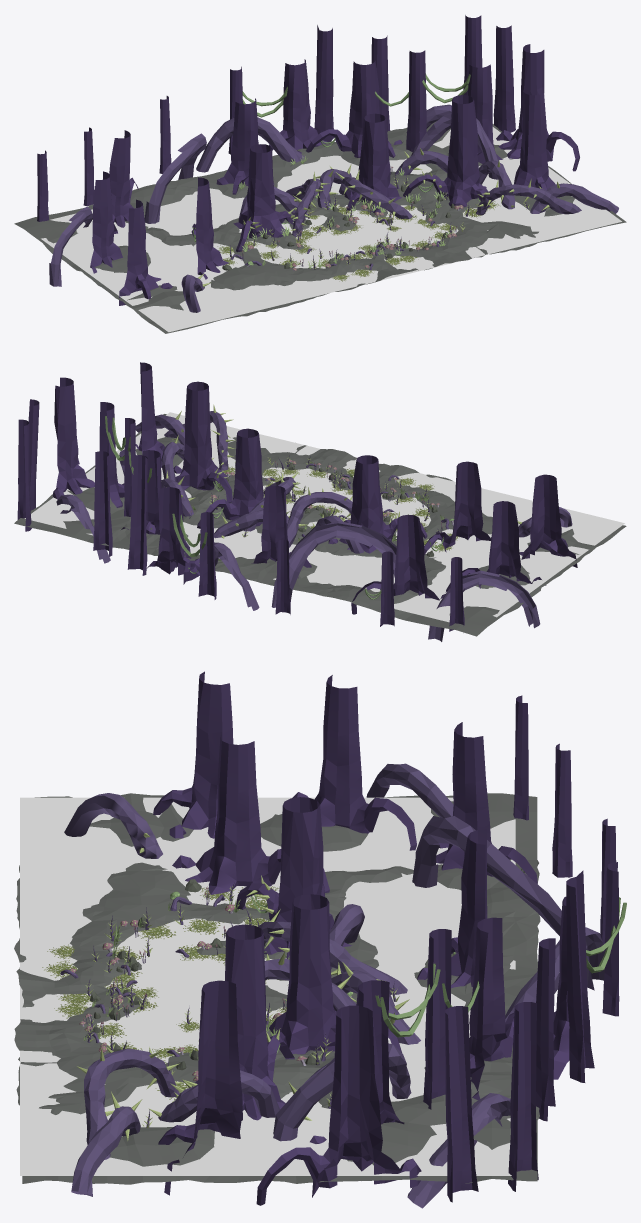
The model's file is swampDiorama.fbx.
3 views of the same model, one above another, from view 1: azimuth 30°, elevation 25°; view 2: azimuth 150°, elevation 25°; view 3: azimuth 270°, elevation 25° (orthographic). The views are drawn at different scales.
Parts seen in each view (by area): view 1: swampPropsBG, swampWater2, swampGround, swampProps5, swampProps1, swampProps3, swampProps4, swampProps2; view 2: swampPropsBG, swampWater2, swampGround, swampProps5, swampProps1, swampProps3, swampProps4, swampProps2; view 3: swampPropsBG, swampWater2, swampGround, swampProps5, swampProps3, swampProps1, swampProps4, swampProps2.
Boxes of the visible parts, box(x1,y1,x2,y2) form: swampPropsBG: box(37, 15, 515, 286); swampWater2: box(41, 127, 621, 332); swampGround: box(14, 121, 626, 333); swampProps5: box(403, 44, 618, 215); swampProps1: box(233, 113, 412, 252); swampProps3: box(119, 177, 374, 312); swampProps4: box(383, 89, 555, 265); swampProps2: box(247, 194, 431, 267); swampPropsBG: box(17, 399, 546, 641); swampWater2: box(24, 412, 624, 622); swampGround: box(14, 414, 626, 636); swampProps5: box(52, 377, 235, 503); swampProps1: box(197, 428, 427, 553); swampProps3: box(388, 461, 577, 567); swampProps4: box(135, 362, 354, 518); swampProps2: box(263, 470, 415, 541); swampPropsBG: box(292, 675, 626, 1208); swampWater2: box(20, 797, 515, 1175); swampGround: box(14, 793, 540, 1184); swampProps5: box(71, 924, 421, 1205); swampProps3: box(42, 671, 329, 979); swampProps1: box(236, 797, 420, 1054); swampProps4: box(54, 979, 334, 1195); swampProps2: box(97, 918, 353, 1041).
Bounding box in the file's own units: 79.32 × 21.36 × 49.37.
3 materials, 3 textured.
